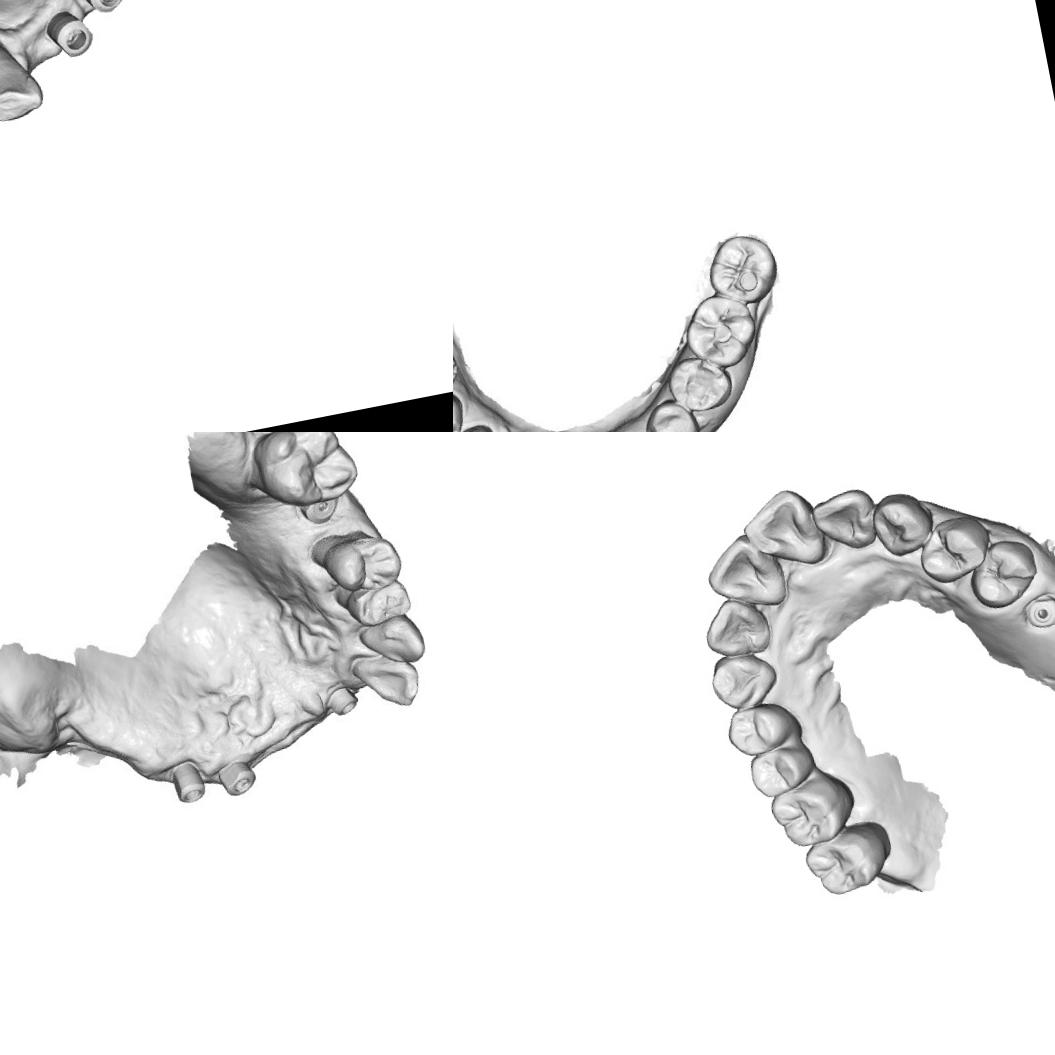canine: (705, 647, 782, 713), (0, 26, 48, 128), (355, 609, 430, 672), (870, 487, 934, 559)
implant: (41, 1, 99, 65), (167, 753, 210, 808), (214, 754, 262, 799), (322, 679, 362, 720), (1020, 588, 1055, 629), (294, 498, 342, 526), (75, 0, 121, 16)
incisor: (736, 482, 826, 574), (700, 528, 787, 618), (349, 643, 424, 717), (696, 592, 774, 660), (810, 488, 878, 550)
molar: (245, 432, 362, 512), (799, 818, 894, 901), (678, 286, 764, 376), (700, 226, 785, 312), (764, 775, 849, 854)
premolar: (911, 509, 996, 588), (316, 525, 407, 598), (964, 534, 1044, 612), (662, 350, 735, 418), (744, 742, 821, 801), (342, 573, 418, 629), (726, 703, 790, 755), (636, 393, 703, 432)
